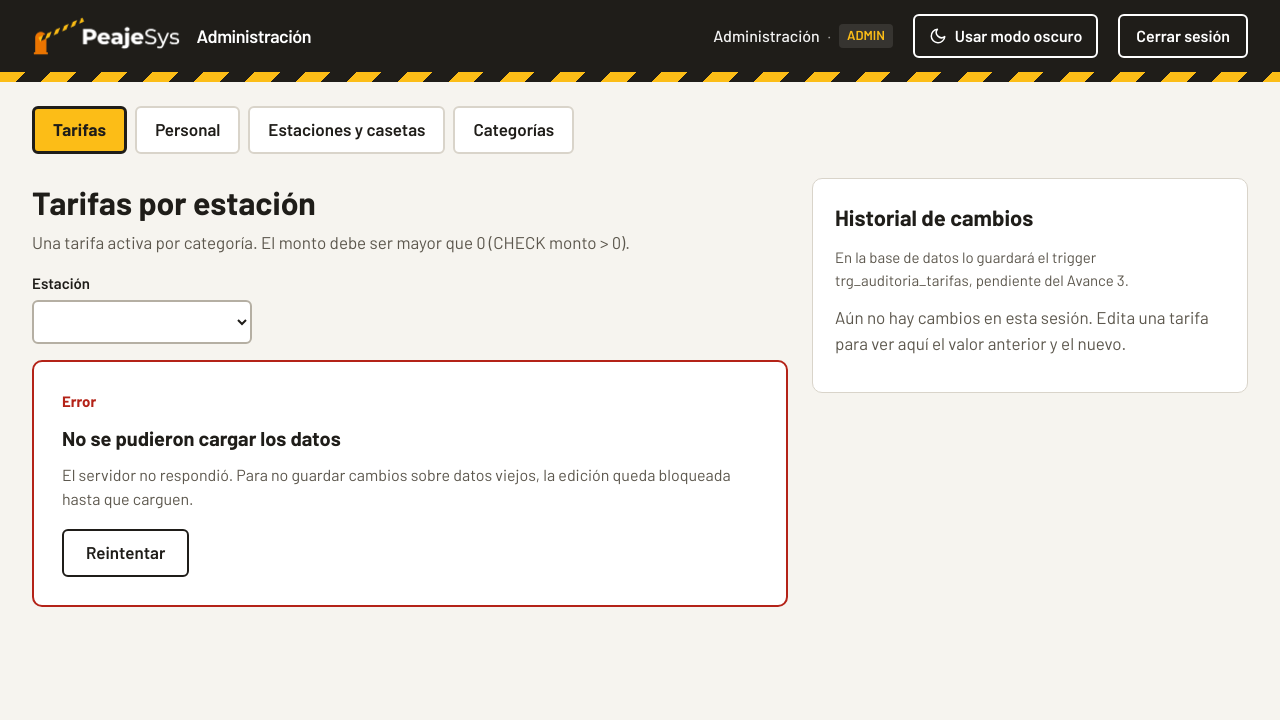
Test: Página de administración (/admin) › cambia a Personal, Estaciones y Categorías al activar cada pestaña
Click the button "Personal" at [188, 130], box [135,106,240,154]
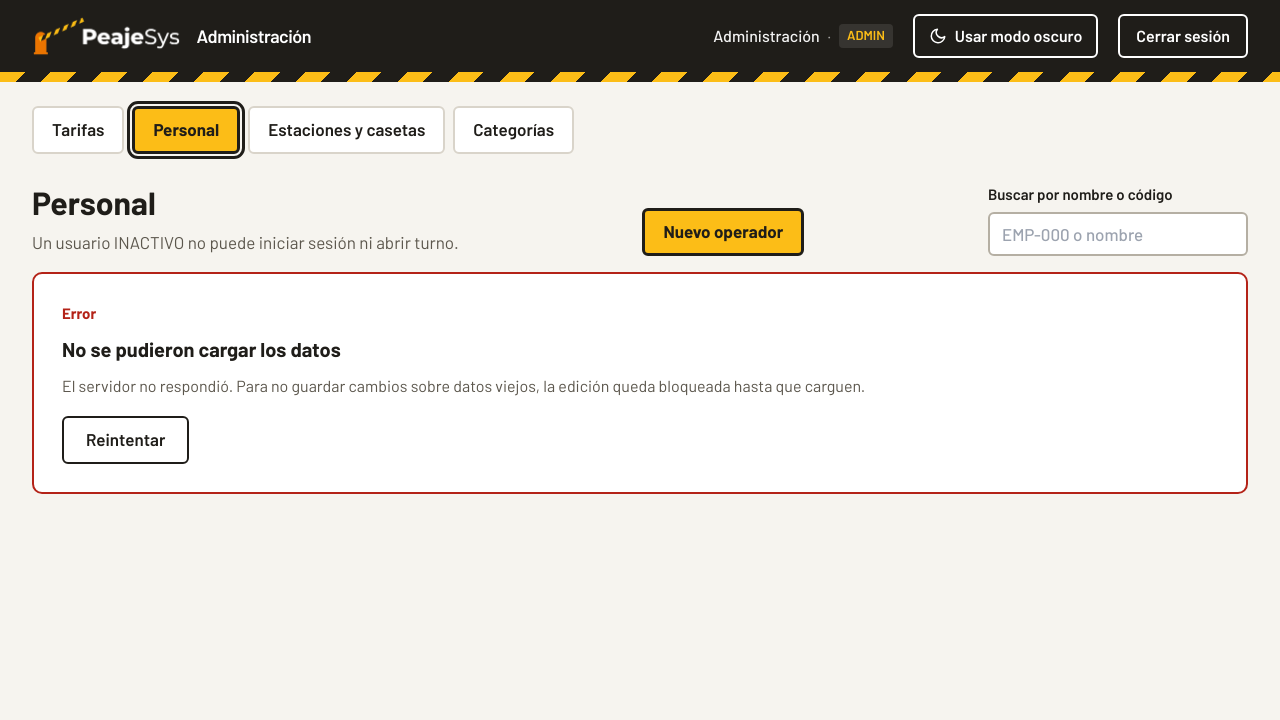
Now the heading "Personal" is shown, box [32,183,156,221]
Click the button "Estaciones y casetas" at [347, 130], box [248,106,445,154]
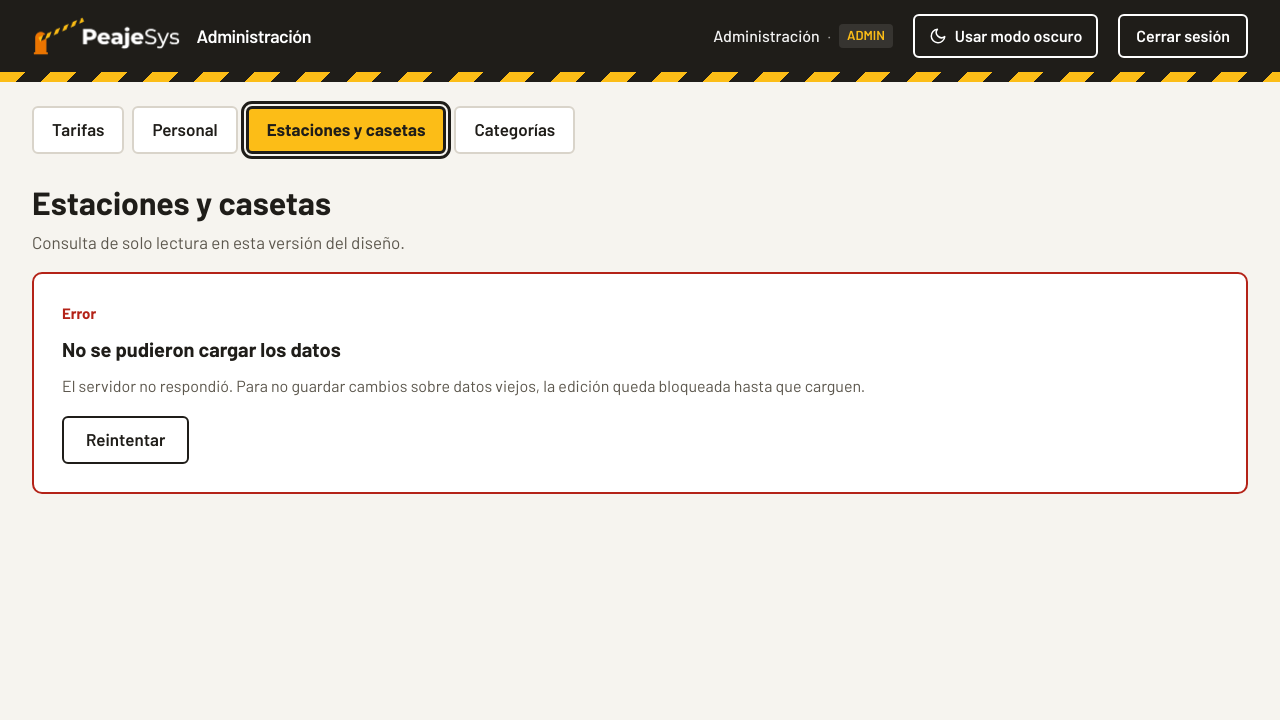
Now the heading "Estaciones y casetas" is shown, box [32,183,331,221]
Click the button "Categorías" at [515, 130], box [454,106,575,154]
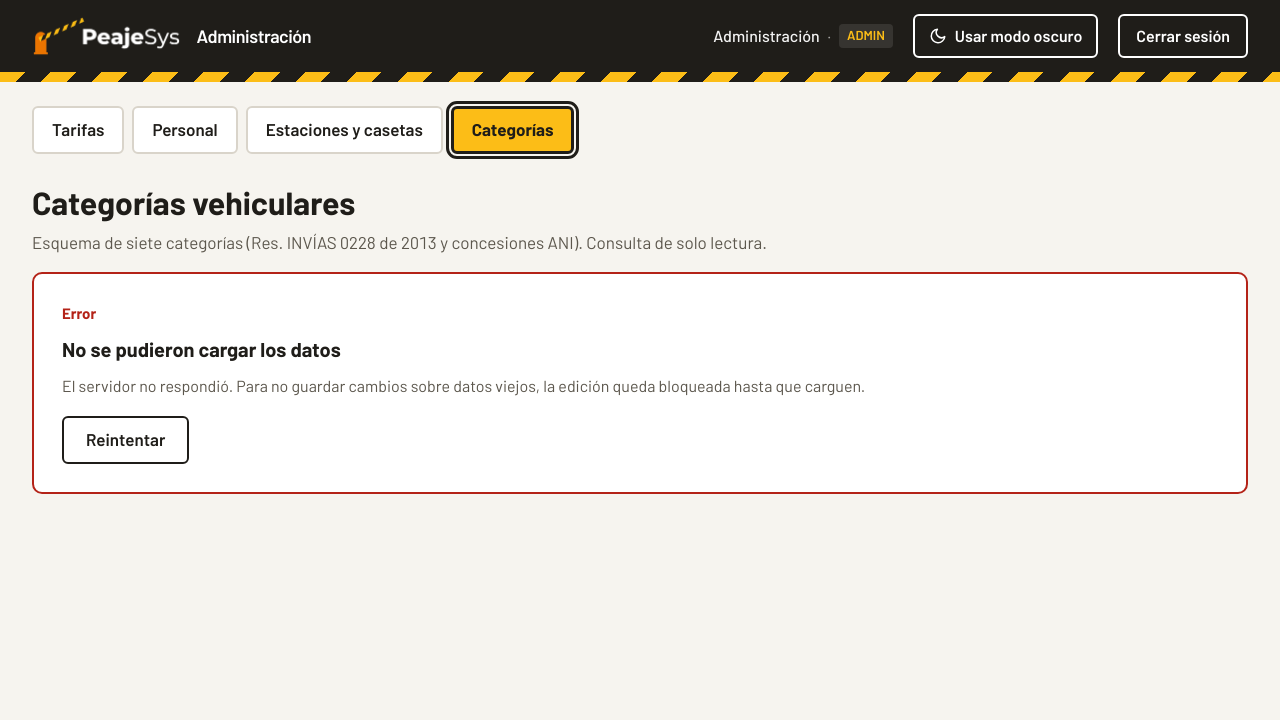
Now the heading "Categorías vehiculares" is shown, box [32,183,355,221]
